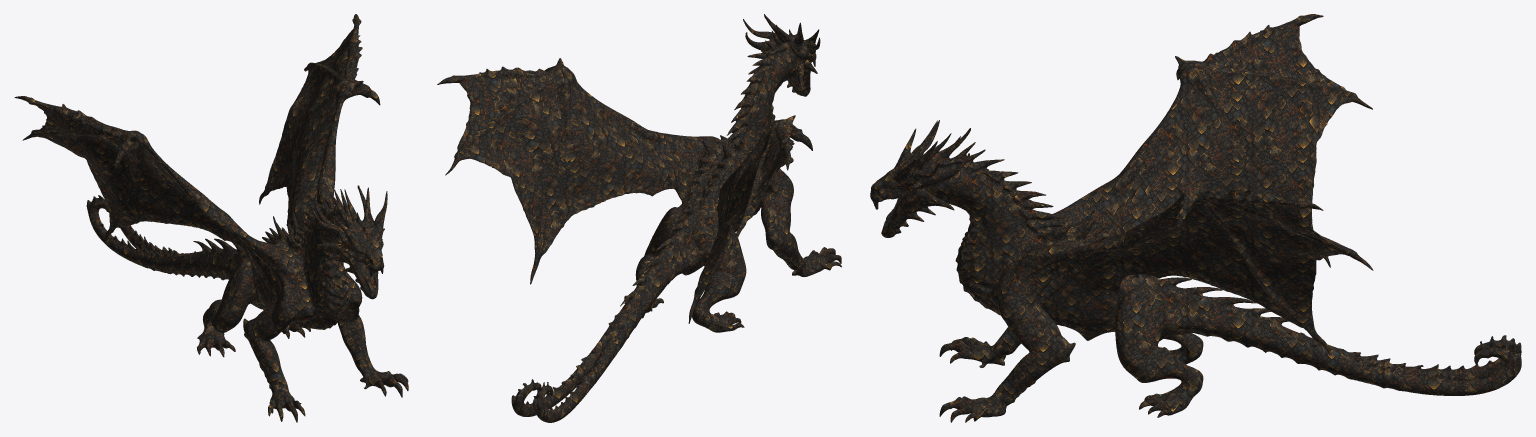
Rendered from golden_ember_dragon_textured.glb.
The picture shows the model from 3 angles, left to right: view 1: azimuth 30°, elevation 25°; view 2: azimuth 150°, elevation 25°; view 3: azimuth 270°, elevation 25°; orthographic projection. The views are drawn at different scales.
Parts seen in each view (by area): view 1: mesh_node; view 2: mesh_node; view 3: mesh_node.
Part boxes in pixels (x1,y1,x2,y2): mesh_node: (14, 14, 408, 422); mesh_node: (437, 14, 841, 422); mesh_node: (870, 14, 1521, 422).
Bounding box in the file's own units: 1.34 × 0.9078 × 1.9.
1 material, 1 textured.
